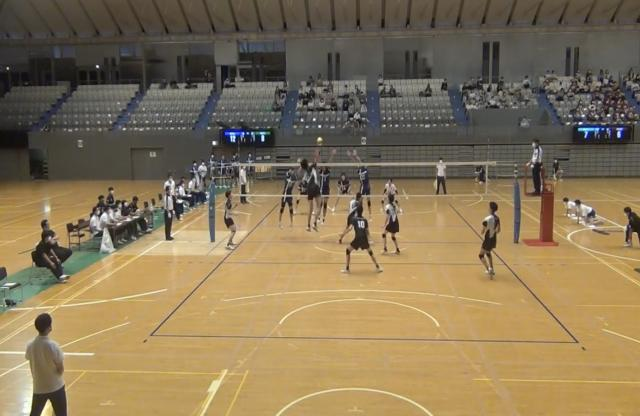spike: (298, 134, 327, 235)
